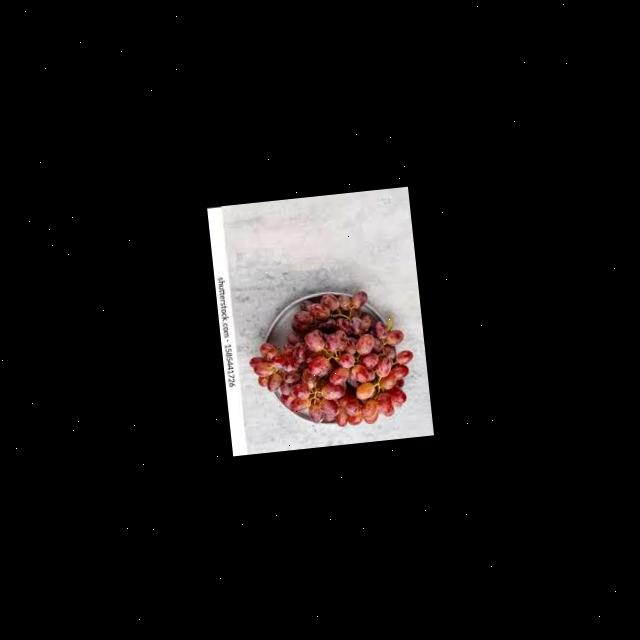grape: (242, 284, 420, 434)
